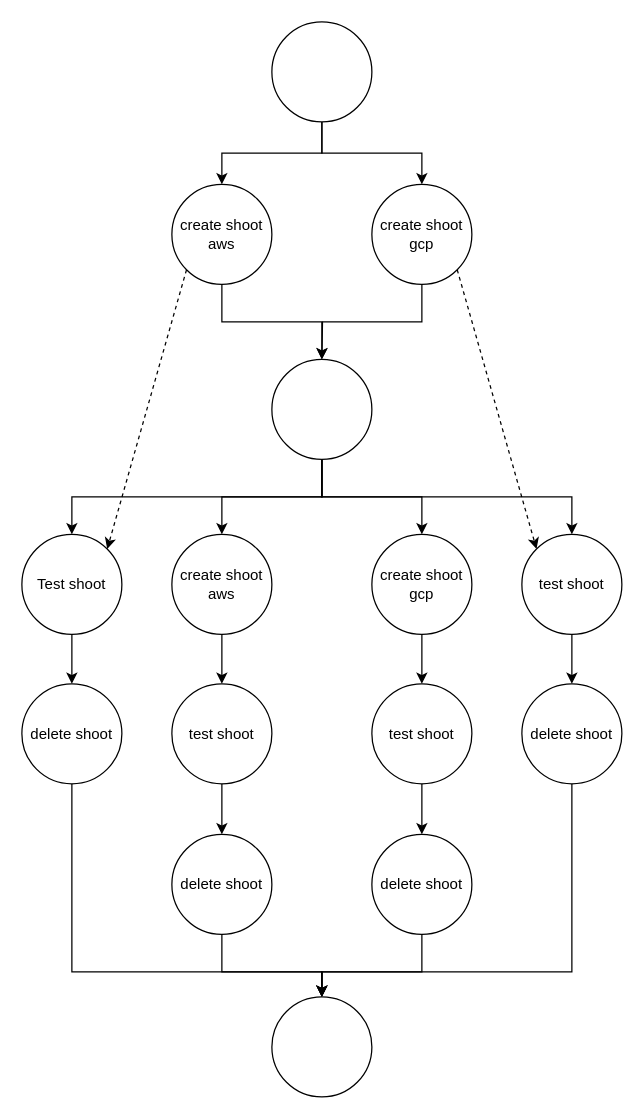
This 644x1119 diagram has some shape labels left out. Each missing label, with the centre of its shape:
create gardener v0.18.1: point 321,71
delete gardener: point 321,1046
upgrade gardener v0.19.1: point 321,408
